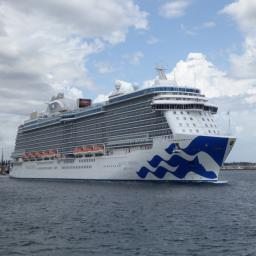cruises: (8, 60, 240, 186)
